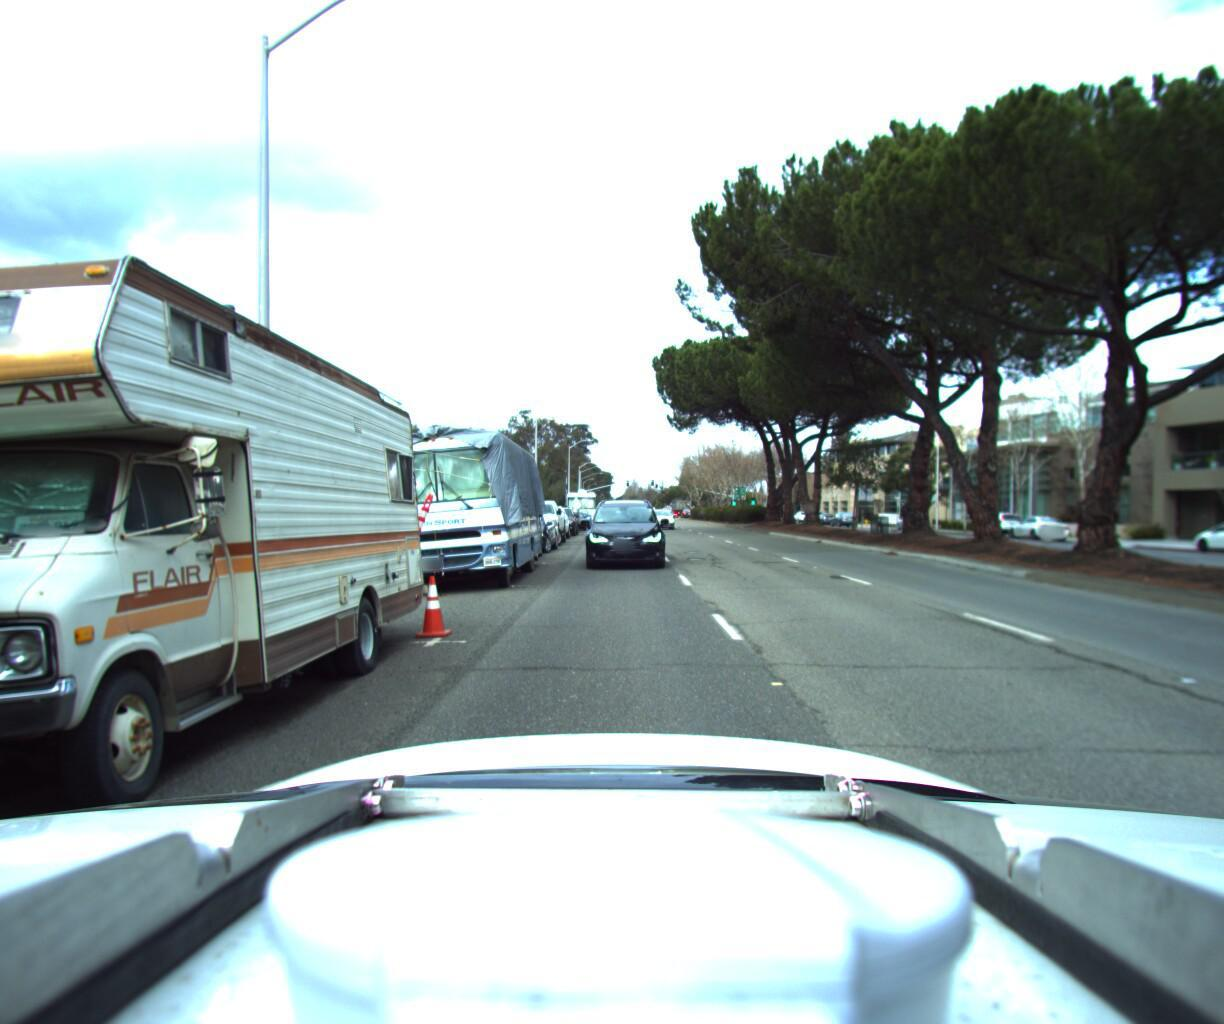bus: (358, 414, 549, 596), (565, 484, 596, 518)
car: (582, 493, 662, 568), (494, 504, 560, 550), (511, 493, 566, 542), (1005, 508, 1072, 535), (1183, 513, 1224, 552), (528, 497, 568, 536), (969, 504, 1026, 532), (544, 498, 578, 533), (546, 502, 579, 529), (893, 506, 931, 525), (649, 502, 677, 524), (823, 505, 855, 520)
